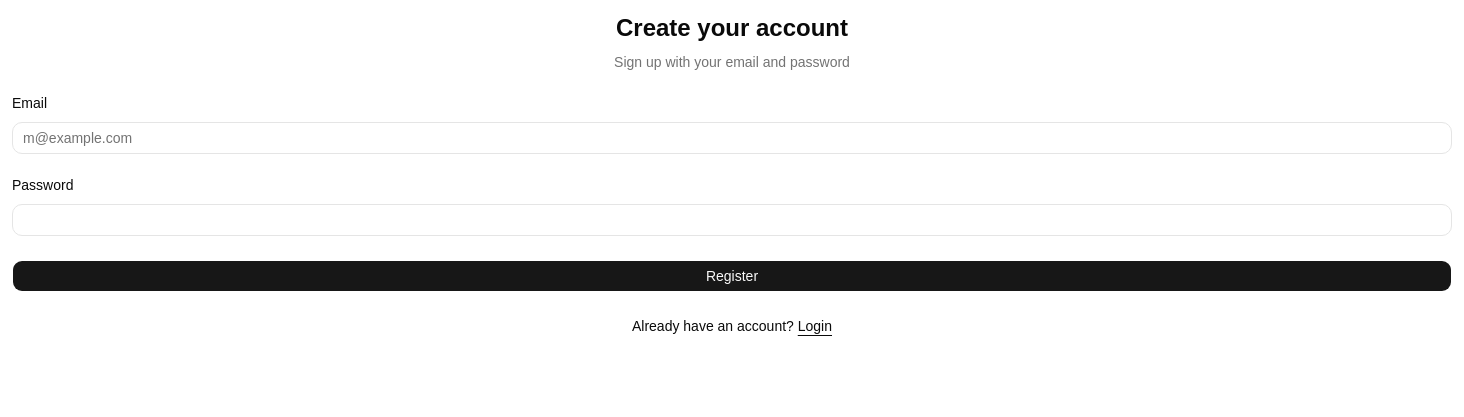
Test case: RegisterForm › shows validation errors for invalid input
The width and height of the screenshot is (1464, 417).
Try to submit with invalid email
Type "invalid-email" into the field labelled "Email" at (732, 138), box [12,122,1452,154]
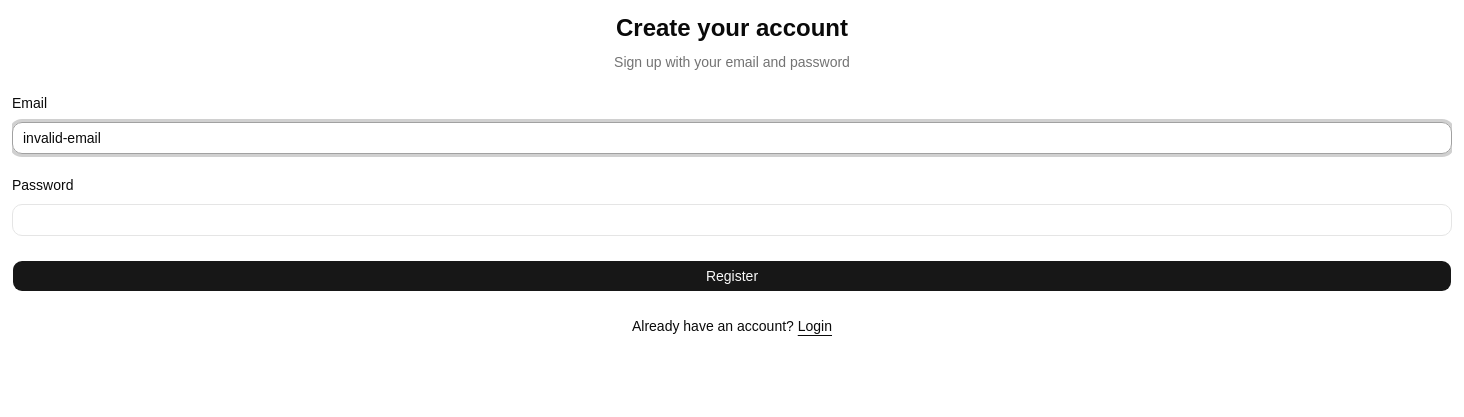
Type "123" into the password field labelled "Password" at (732, 220), box [12,204,1452,236]
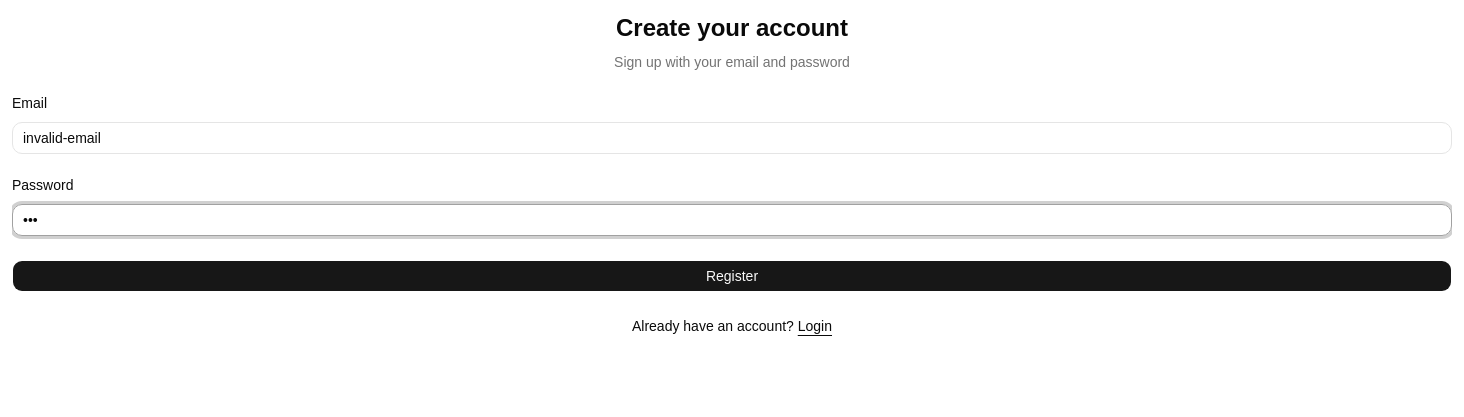
Click the button "Register" at (732, 276), box [12,260,1452,292]
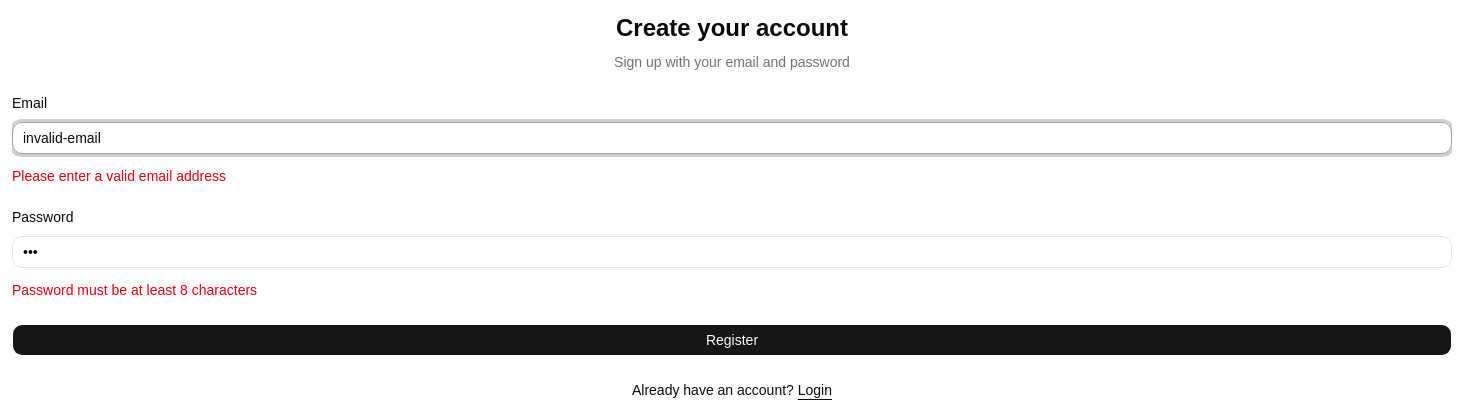
Now the text "Please enter a valid email address" is shown, box [12,168,226,184]
Now the text "Password must be at least 8 characters" is shown, box [12,282,257,298]
